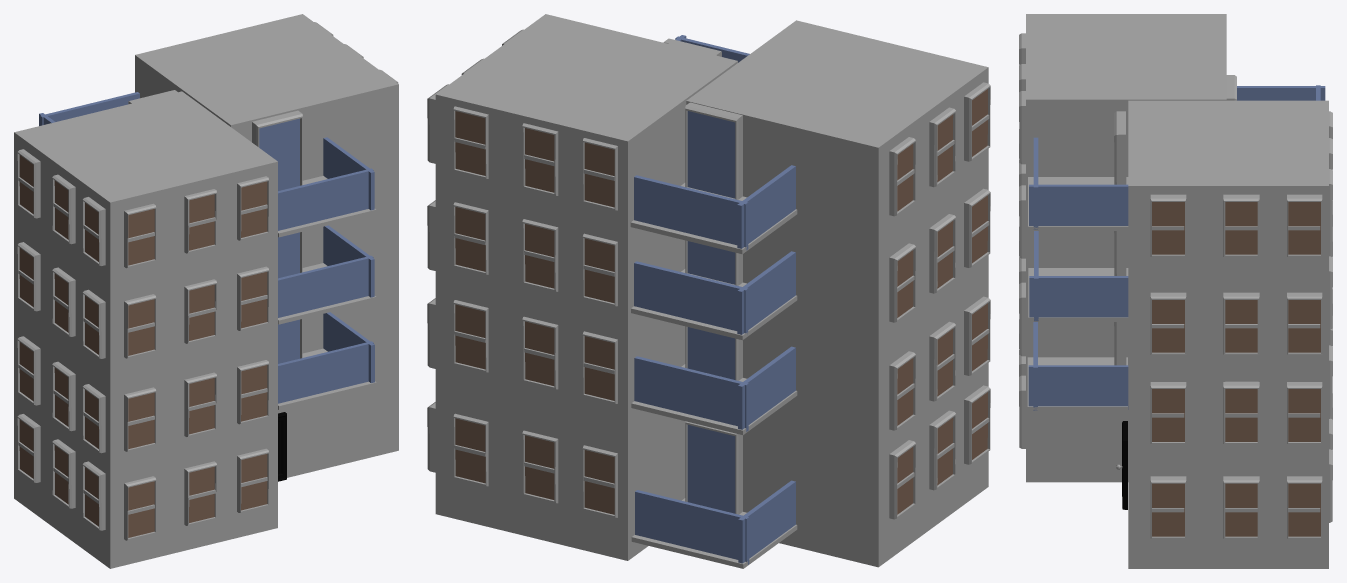
Rendered from Apartments3.fbx.
3 views of the same model, side by side, from view 1: azimuth 30°, elevation 25°; view 2: azimuth 150°, elevation 25°; view 3: azimuth 270°, elevation 25° (orthographic). The views are drawn at different scales.
Parts seen in each view (by area): view 1: pCube143, pCube144, pCube260, polySurface324, polySurface322, polySurface308, polySurface323, polySurface334, polySurface336, polySurface335, polySurface333, pCube147 (+10 smaller); view 2: pCube143, pCube144, pCube263, pCube262, pCube261, pCube264, polySurface329, polySurface332, polySurface330, polySurface331, polySurface334, polySurface336 (+7 smaller); view 3: pCube144, pCube143, polySurface325, polySurface328, polySurface327, polySurface326, pCube260, pCube145, pCube94, pCube263, pCube146, pCube92 (+12 smaller).
Boxes of the visible parts, x1,y1,x2,y2 form: pCube143: (14, 91, 277, 568); pCube144: (135, 14, 398, 477); pCube260: (278, 312, 376, 409); polySurface324: (124, 448, 268, 540); polySurface322: (124, 266, 268, 358); polySurface308: (124, 176, 268, 268); polySurface323: (124, 360, 268, 451); polySurface334: (17, 336, 105, 453); polySurface336: (17, 149, 105, 265); polySurface335: (17, 242, 105, 358); polySurface333: (17, 414, 105, 530); pCube147: (278, 255, 373, 317); pCube143: (686, 20, 988, 567); pCube144: (435, 14, 737, 560); pCube263: (630, 165, 797, 254); pCube262: (631, 251, 797, 340); pCube261: (631, 346, 797, 434); pCube264: (631, 480, 797, 568); polySurface329: (453, 202, 617, 306); polySurface332: (453, 413, 617, 517); polySurface330: (453, 106, 617, 210); polySurface331: (453, 300, 617, 403); polySurface334: (889, 296, 990, 430); polySurface336: (889, 82, 990, 216); pCube144: (1128, 100, 1328, 568); pCube143: (1026, 14, 1226, 482); polySurface325: (1150, 476, 1322, 538); polySurface328: (1150, 194, 1322, 256); polySurface327: (1150, 292, 1322, 354); polySurface326: (1150, 381, 1322, 443); pCube260: (1027, 322, 1128, 411); pCube145: (1029, 276, 1128, 317); pCube94: (1029, 184, 1128, 225); pCube263: (1237, 85, 1325, 100); pCube146: (1028, 268, 1128, 321); pCube92: (1028, 177, 1128, 230).
Bounding box in the file's own units: 55.94 × 55.2 × 41.01.
